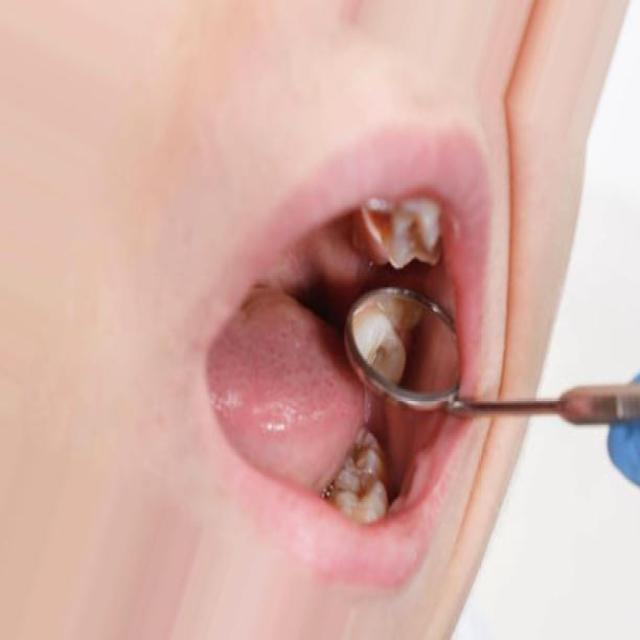caries: (362, 192, 448, 273), (338, 434, 386, 524)
